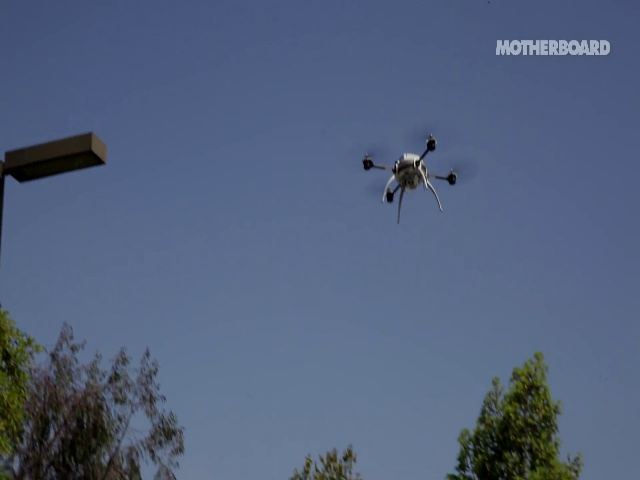drone: (356, 125, 482, 228)
